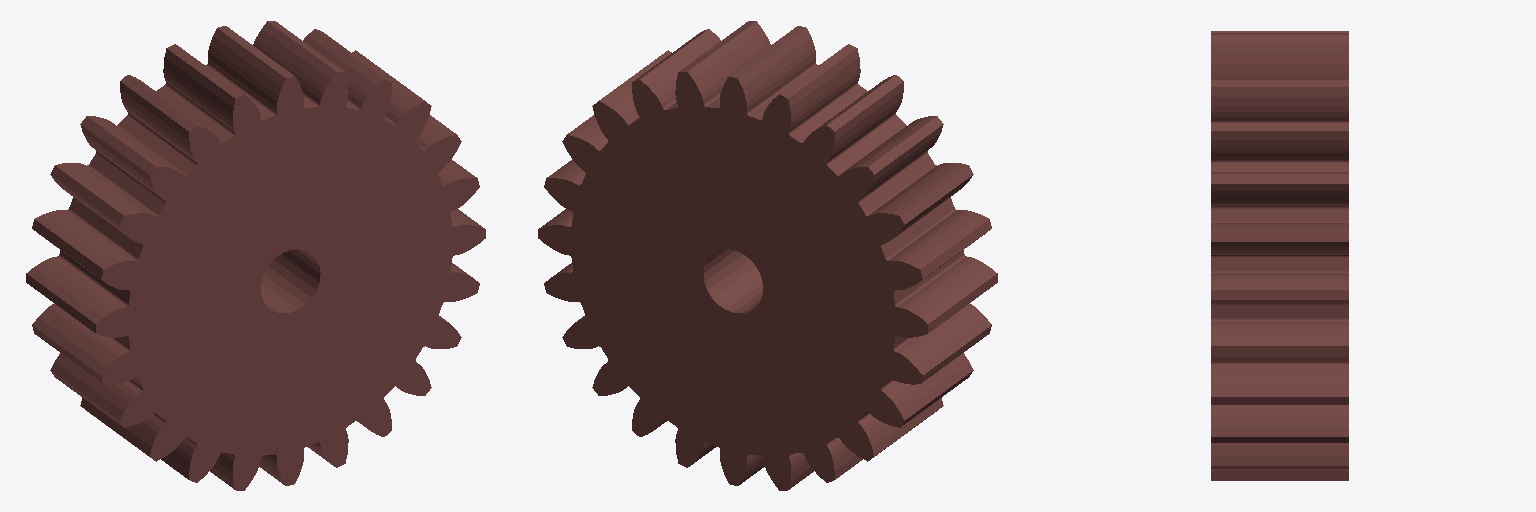
The model's file is engrenagem2.obj.
3 renders of one model, left to right at view 1: azimuth 30°, elevation 25°; view 2: azimuth 150°, elevation 25°; view 3: azimuth 270°, elevation 25°, orthographic.
Visible parts, largest first — view 1: engrenagem2; view 2: engrenagem2; view 3: engrenagem2.
Boxes of the visible parts, box(x1,y1,x2,y2) form: engrenagem2: box(26, 21, 485, 490); engrenagem2: box(538, 21, 997, 490); engrenagem2: box(1211, 31, 1348, 480).
Bounding box in the file's own units: 260 × 260 × 80.